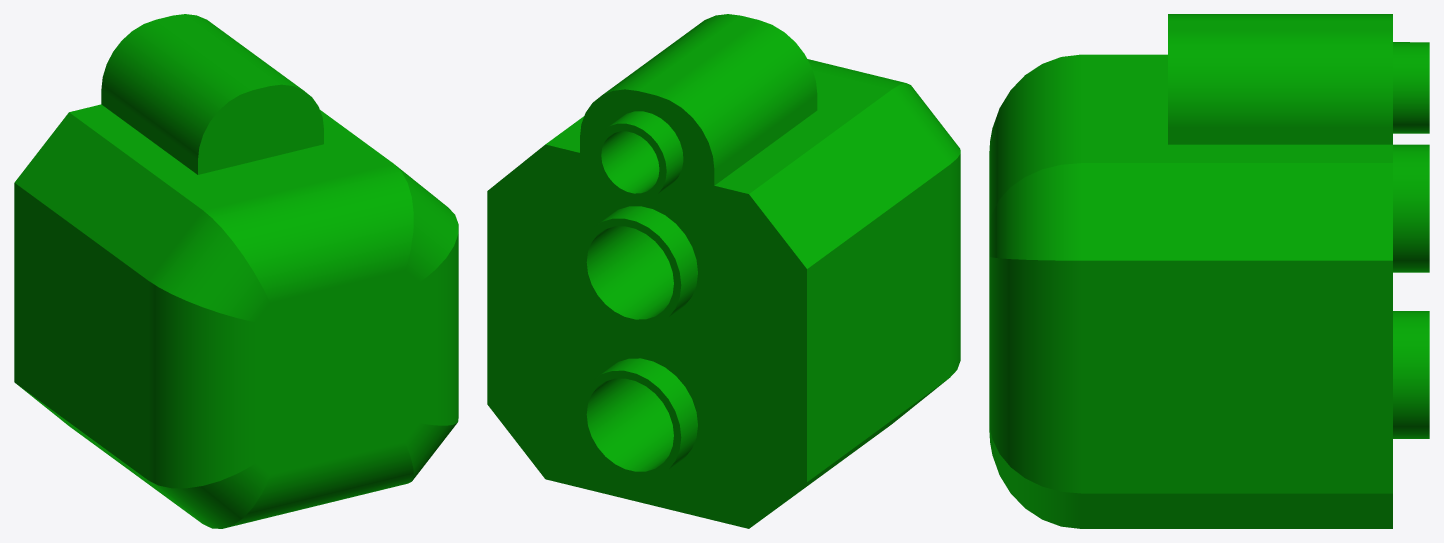
File: cutemark-Head.gltf
3 views of the same model, side by side, from view 1: azimuth 30°, elevation 25°; view 2: azimuth 150°, elevation 25°; view 3: azimuth 270°, elevation 25° (orthographic). The views are drawn at different scales.
Parts seen in each view (by area): view 1: Head; view 2: Head; view 3: Head.
Boxes of the visible parts, bbox=[...] form: Head: bbox=[14, 14, 458, 528]; Head: bbox=[487, 14, 960, 528]; Head: bbox=[989, 14, 1429, 528].
Size of the model in its own units: 0.022 by 0.027 by 0.024.
